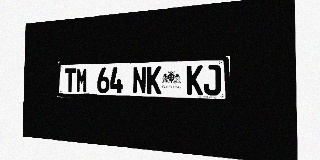4: (110, 67, 123, 93)
6: (97, 67, 110, 93)
J: (204, 65, 221, 95)
K: (187, 65, 203, 95), (147, 66, 161, 94)
M: (76, 68, 88, 93)
N: (132, 66, 146, 94)
T: (64, 68, 76, 93)
